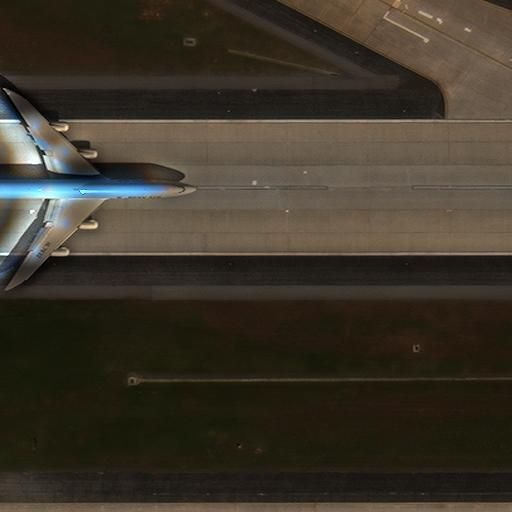Large Civil Transport: (0, 92, 197, 281)
